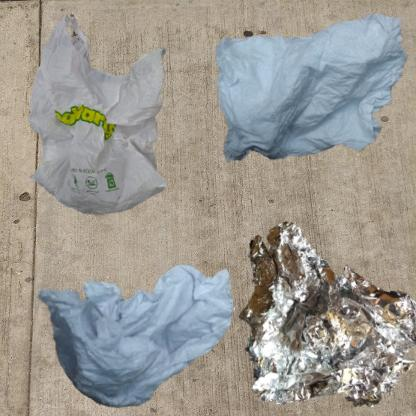aluminio: (213, 213, 416, 416)
bolsa: (10, 10, 204, 239)
papel: (10, 213, 265, 416), (213, 10, 416, 166)
